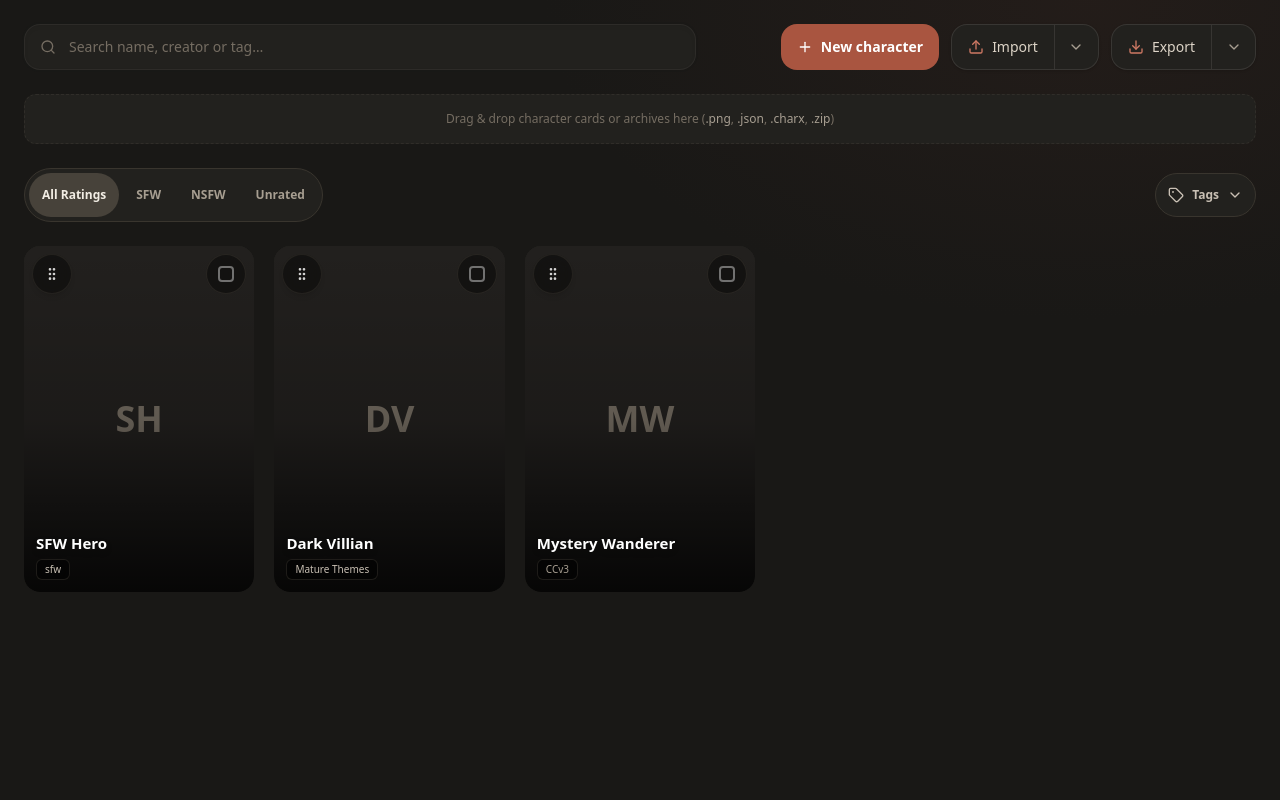
it: GalleryView component › renders card list and filters correctly by rating
The image size is (1280, 800).
Note: Filter by SFW: only SFW Hero should be visible, NOT Unrated or NSFW
Click the button with test id "filter-rating-sfw". click: (149, 195)
box: [123, 173, 174, 217]
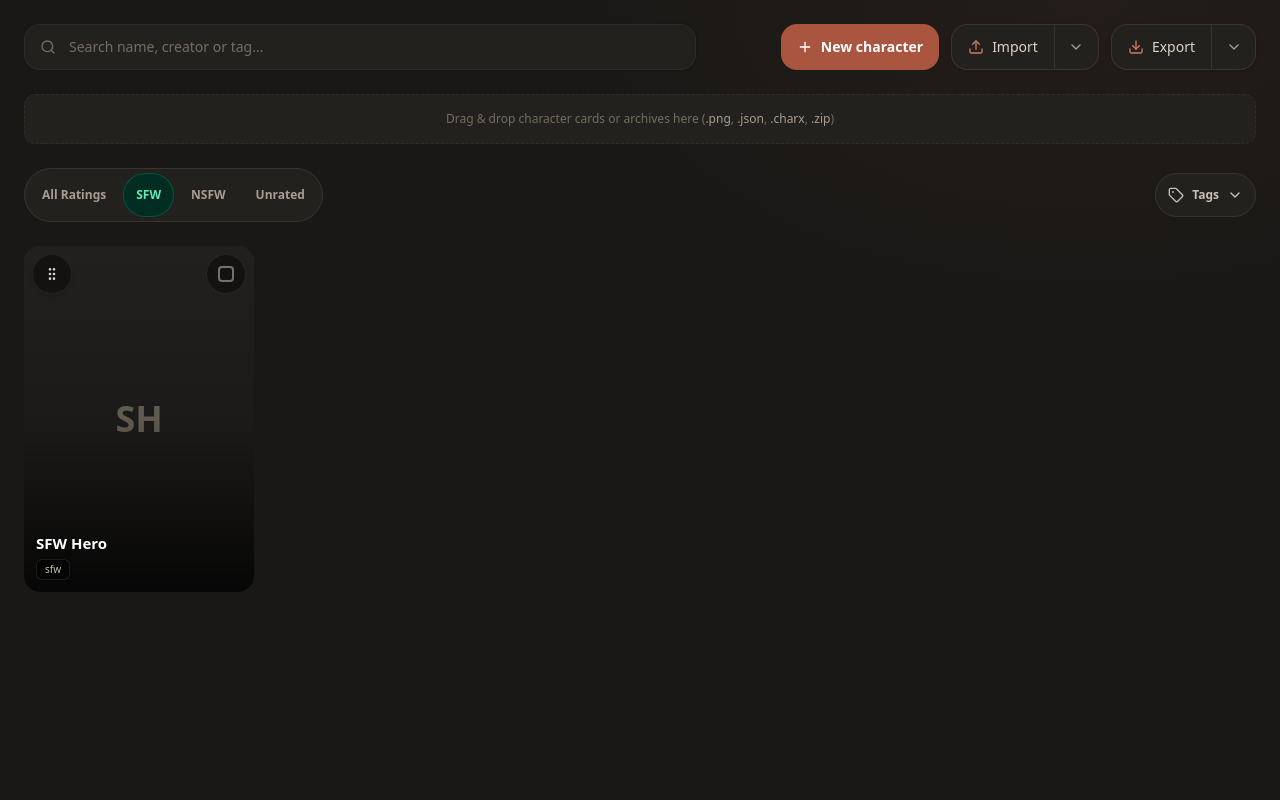
Expected: the heading "Dark Villian" is gone
Expected: the heading "Mystery Wanderer" is gone
Note: Filter by NSFW: only Dark Villian ("Mature Themes") should be visible
Click the button with test id "filter-rating-nsfw". click: (208, 195)
box: [178, 173, 239, 217]
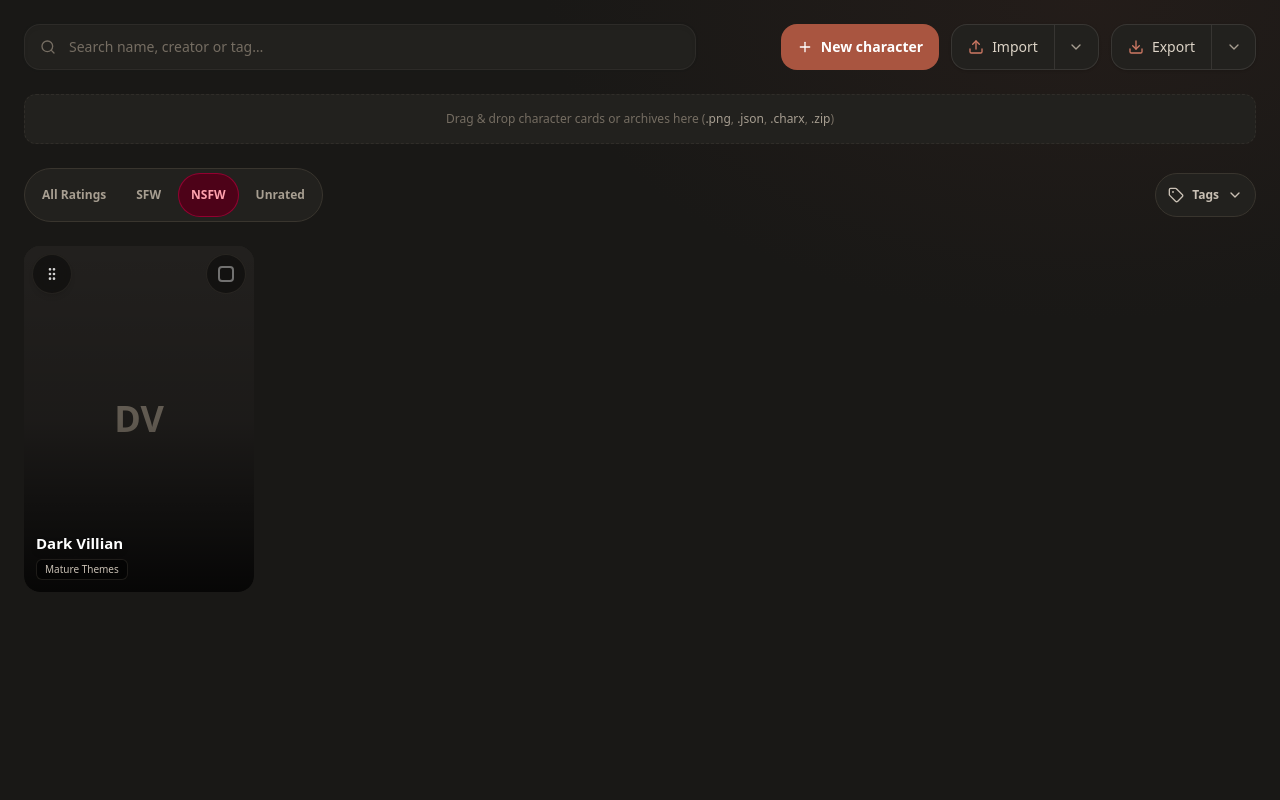
Expected: the heading "Mystery Wanderer" is not shown
Expected: the heading "SFW Hero" is gone
Note: Filter by Unrated: only Mystery Wanderer should be visible
Click the button with test id "filter-rating-unrated". click: (280, 195)
box: [243, 173, 318, 217]
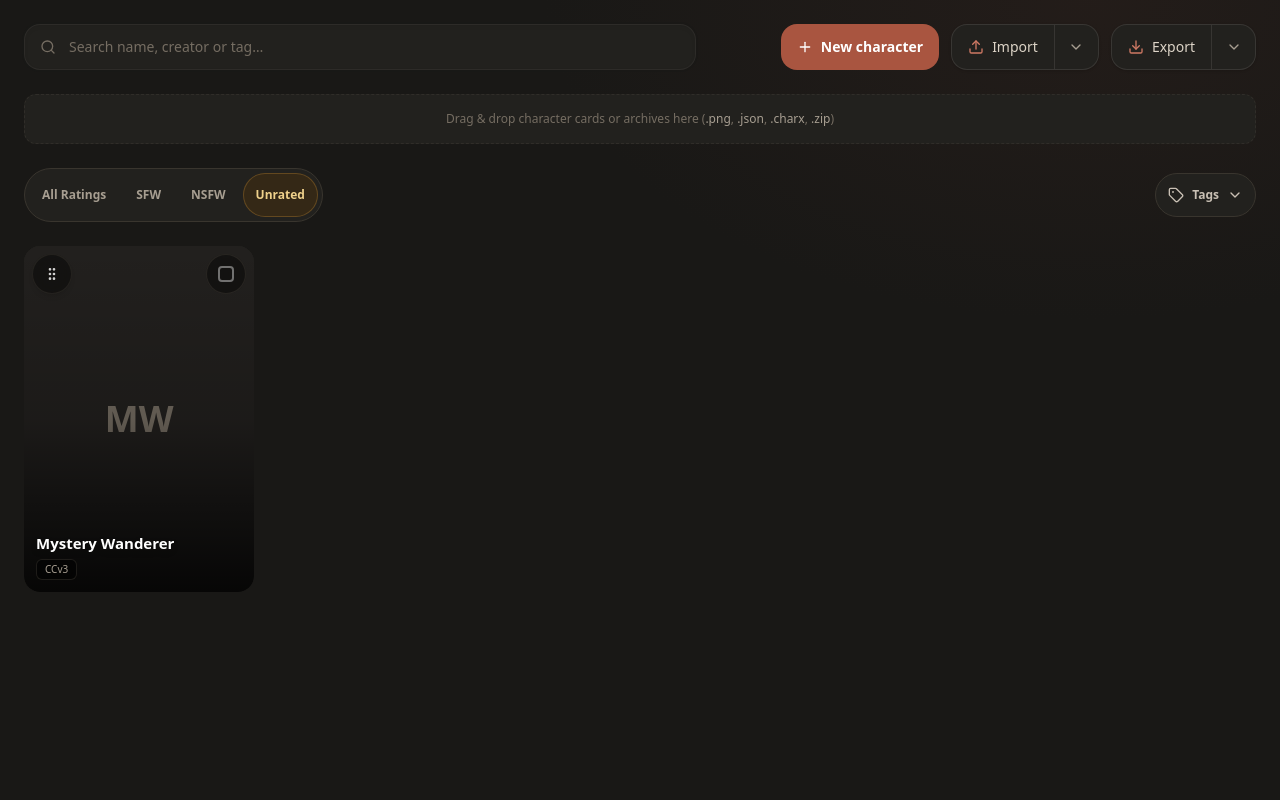
Expected: the heading "SFW Hero" is not shown
Expected: the heading "Dark Villian" is gone
